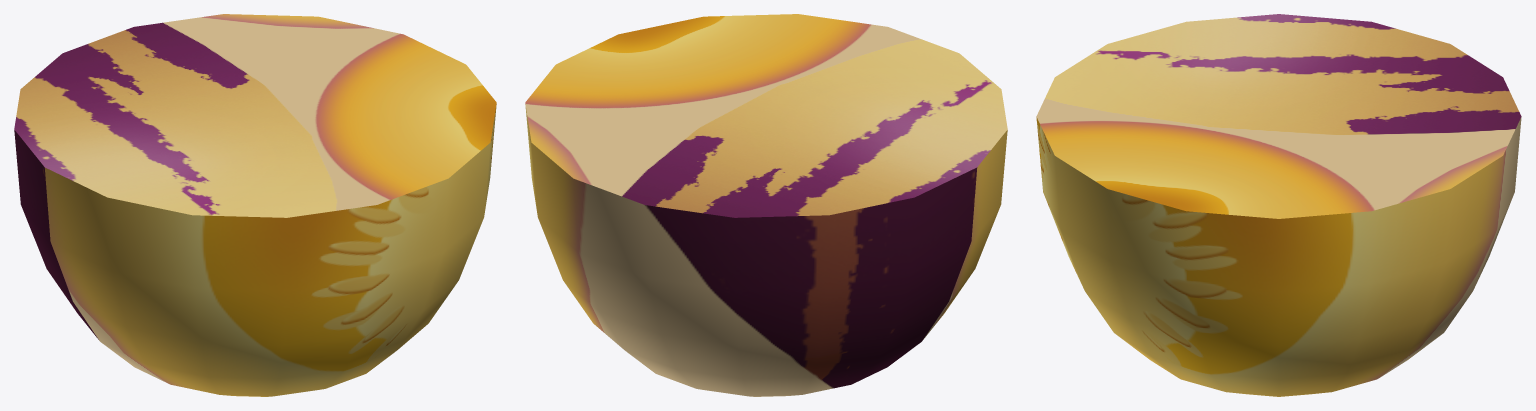
The model's file is Tamarillo_Half.fbx.
3 views of the same model, side by side, from view 1: azimuth 30°, elevation 25°; view 2: azimuth 150°, elevation 25°; view 3: azimuth 270°, elevation 25° (orthographic).
Visible parts, largest first — view 1: Tamarillo_Half; view 2: Tamarillo_Half; view 3: Tamarillo_Half.
Boxes of the visible parts, x1,y1,x2,y2 form: Tamarillo_Half: (14,14,496,396); Tamarillo_Half: (525,14,1007,396); Tamarillo_Half: (1036,14,1521,396).
Bounding box in the file's own units: 29.61 × 17.65 × 29.61.
